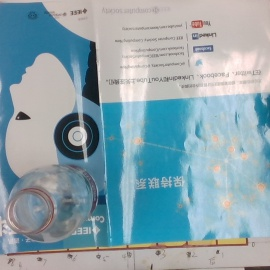bottle: (5, 167, 112, 242)
